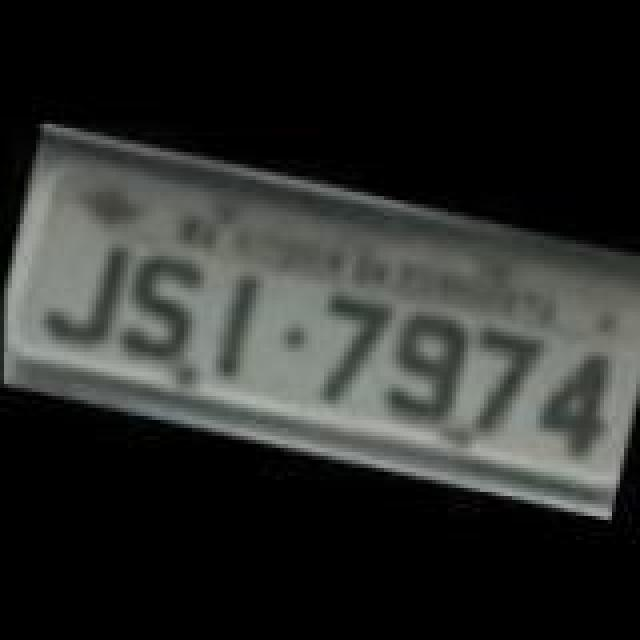1: (202, 266, 266, 378)
4: (528, 334, 624, 466)
7: (450, 316, 542, 444), (300, 284, 392, 408)
9: (370, 302, 470, 430)
J: (32, 228, 132, 348)
S: (110, 242, 206, 362)
